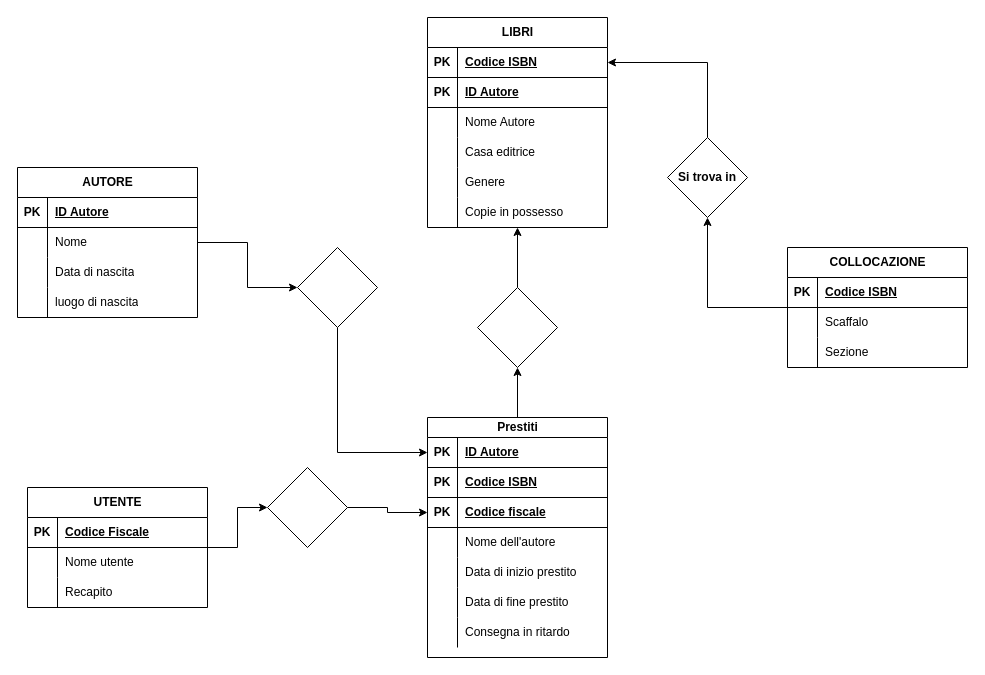
This 985x675 diagram has some shape labels left out. The centre of each missing label's shape, as x and y in pixels:
a effetuato: the point at 307,507
Prestato per: the point at 517,327
Prestito: the point at 337,287
